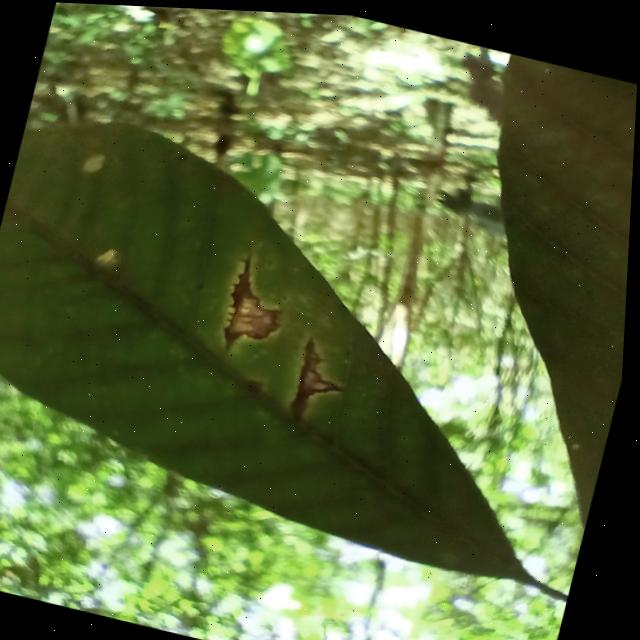Corynespora: (219, 252, 298, 365), (288, 332, 358, 429)
